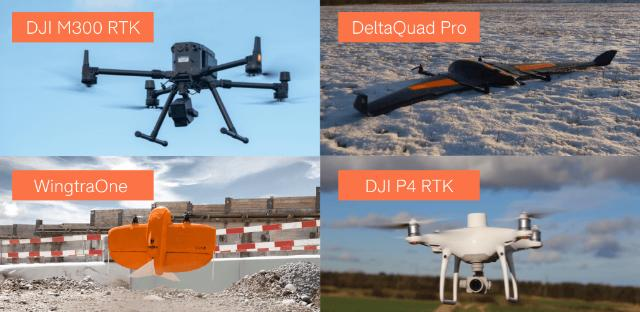drone: (71, 38, 299, 146), (366, 214, 582, 300)
